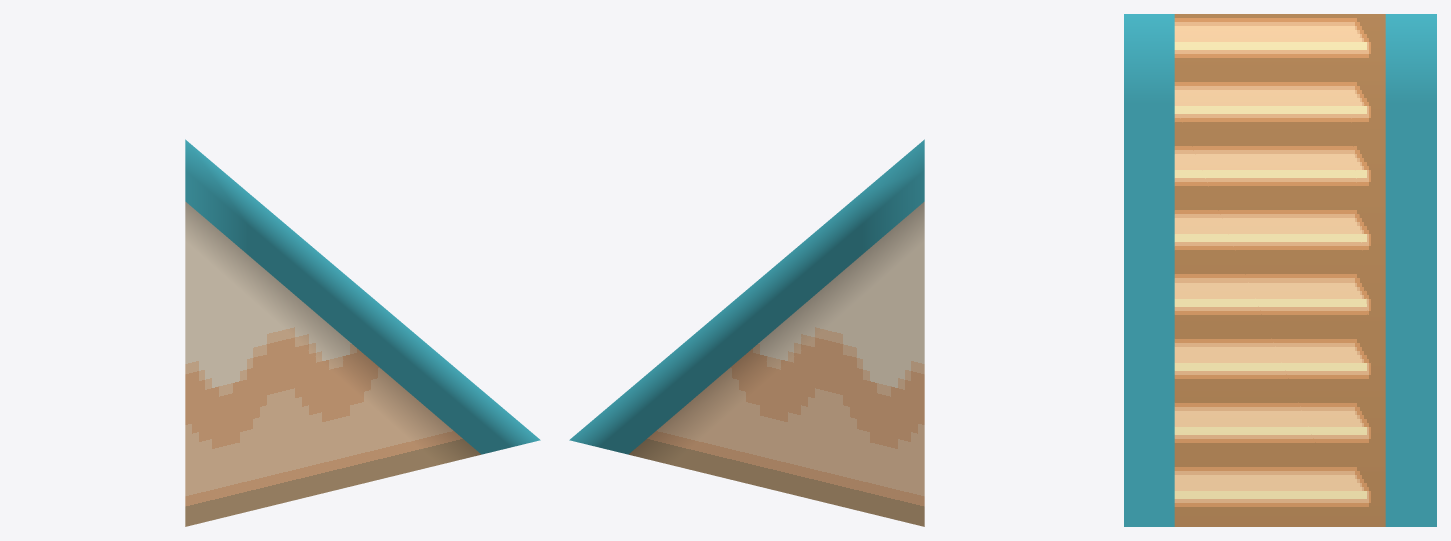
3 views of the same model, side by side, from view 1: azimuth 30°, elevation 25°; view 2: azimuth 150°, elevation 25°; view 3: azimuth 270°, elevation 25° (orthographic). The views are drawn at different scales.
Size of the model in its own units: 3 by 3.12 by 2.5.
3 materials, 3 textured.
